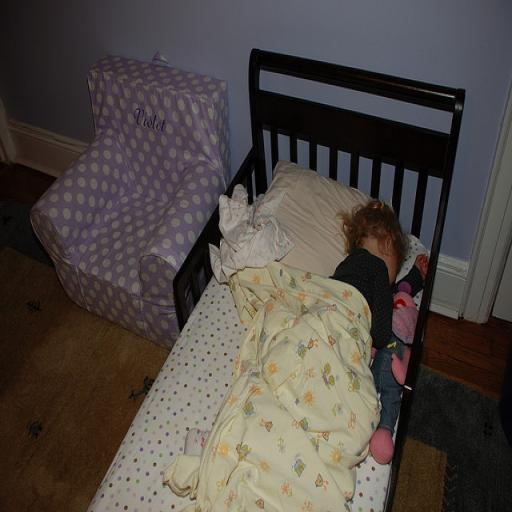bed: (83, 38, 494, 512)
